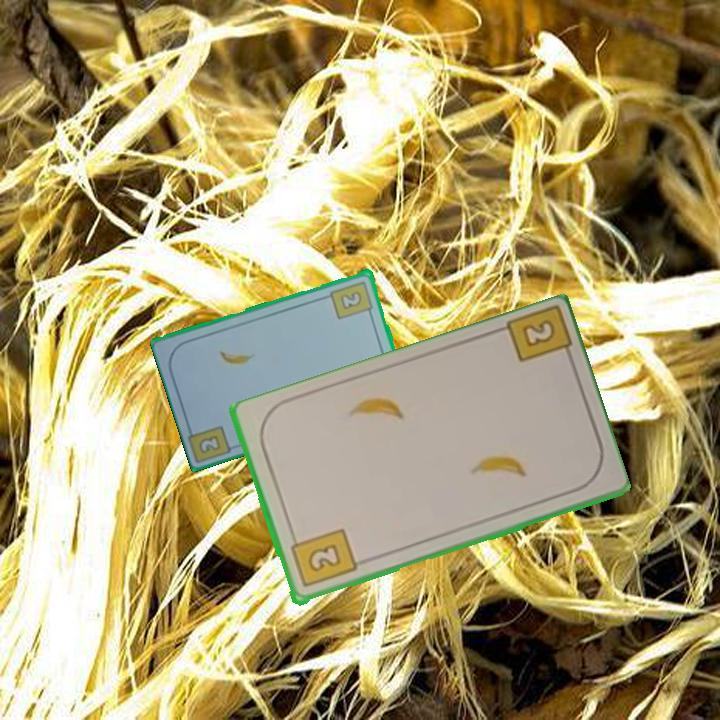2b: (500, 305, 577, 368), (287, 525, 359, 591), (327, 277, 376, 322), (195, 431, 224, 456)
